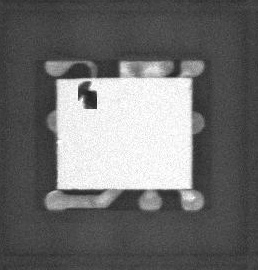DIE_INK: (75, 84, 92, 113)
